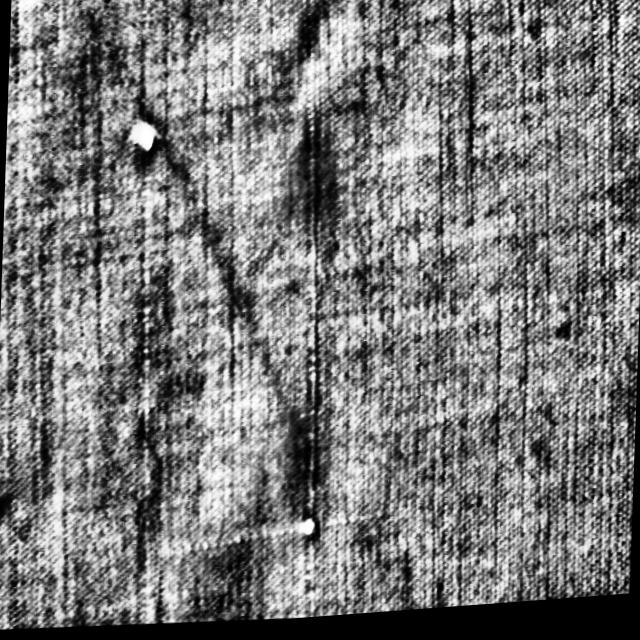Hole: (124, 114, 166, 161), (298, 517, 318, 544)
